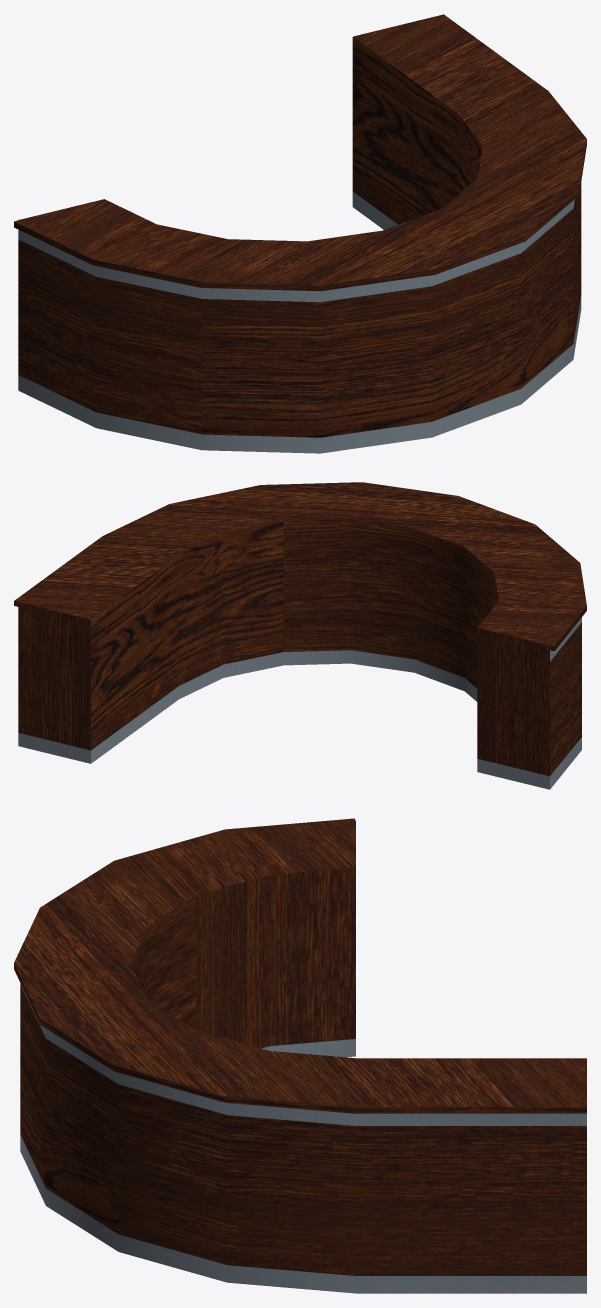
File: MainMesa.fbx
The picture shows the model from 3 angles, top to bottom: view 1: azimuth 30°, elevation 25°; view 2: azimuth 150°, elevation 25°; view 3: azimuth 270°, elevation 25°; orthographic projection. The views are drawn at different scales.
Visible parts, largest first — view 1: MainMesa; view 2: MainMesa; view 3: MainMesa.
Boxes of the visible parts, x1,y1,x2,y2 form: MainMesa: (14, 14, 586, 453); MainMesa: (14, 482, 586, 789); MainMesa: (14, 818, 586, 1293).
Bounding box in the file's own units: 302 × 92.04 × 253.
